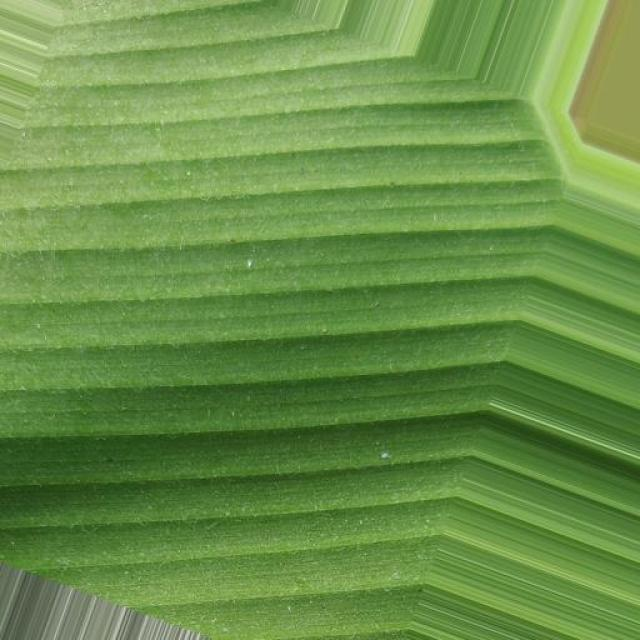Black_leaf_spot: (0, 13, 617, 571)
